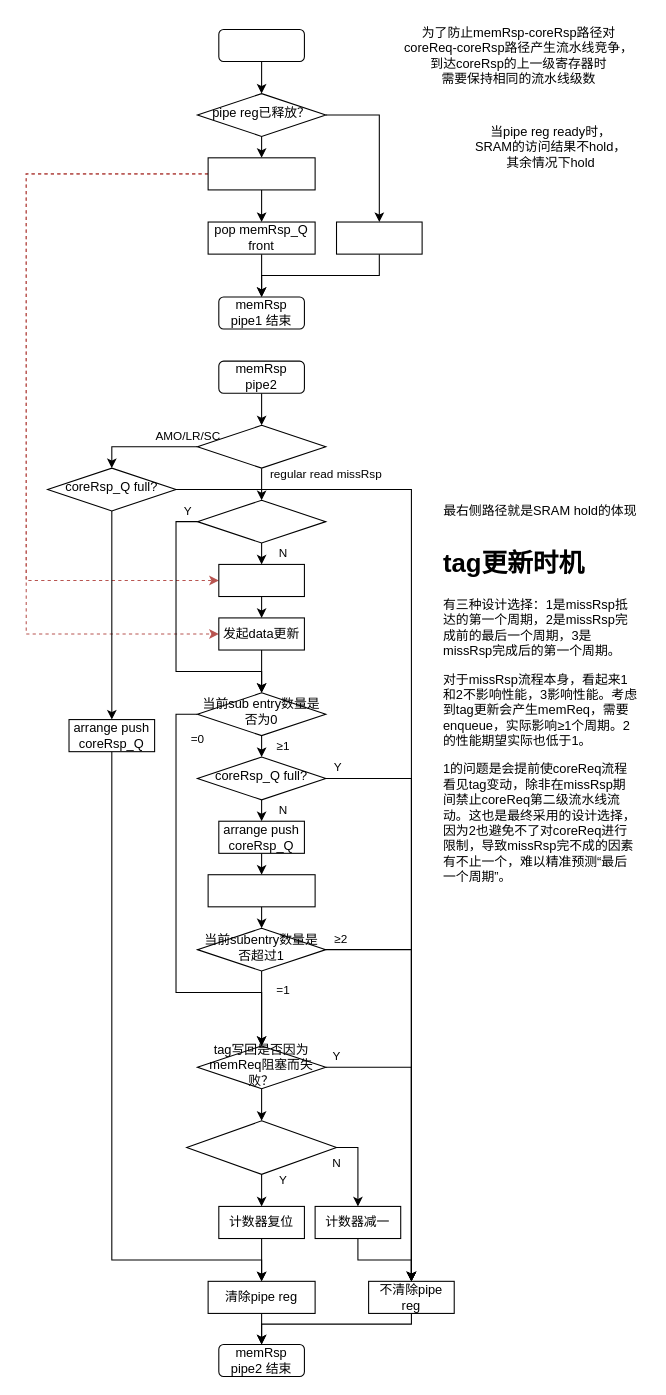
Some shapes in this 666 by 1395 pixel diagram are drawn without their labels. Here are the shapes that lost their labels. From the top down, the centre of each, then its label:
(x=261, y=45): memRsp pipe1
(x=261, y=173): access MSHR SRAM
(x=378, y=237): 不pop memRsp_Q
(x=261, y=446): 请求类型？
(x=261, y=521): tag更新已发布？
(x=261, y=580): 发起tag更新
(x=261, y=890): 下个周期subentry数量-1
(x=261, y=1147): data更新离完成还剩一个周期？
